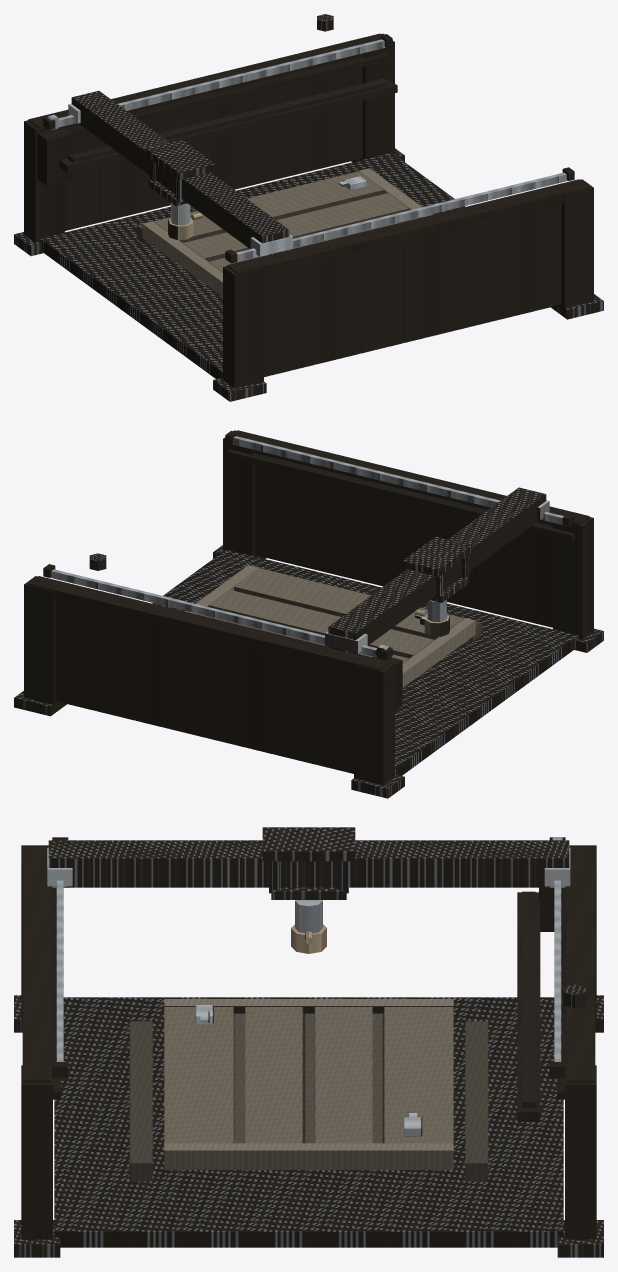
The model's file is fabricator_lod1.glb.
3 views of the same model, one above another, from view 1: azimuth 30°, elevation 25°; view 2: azimuth 150°, elevation 25°; view 3: azimuth 270°, elevation 25° (orthographic). The views are drawn at different scales.
Visible parts, largest first — view 1: LOD1_fabricator, LOD1_Gantry; view 2: LOD1_fabricator, LOD1_Gantry; view 3: LOD1_fabricator, LOD1_Gantry.
Part boxes in pixels (box(x1,y1,x2,y2)): LOD1_fabricator: box(14, 33, 603, 401); LOD1_Gantry: box(68, 90, 292, 257); LOD1_fabricator: box(14, 430, 603, 798); LOD1_Gantry: box(325, 487, 549, 654); LOD1_fabricator: box(14, 837, 603, 1257); LOD1_Gantry: box(47, 827, 570, 953).
Size of the model in its own units: 2.04 by 0.835 by 2.04.
Materials: 1 (1 with a texture image).
